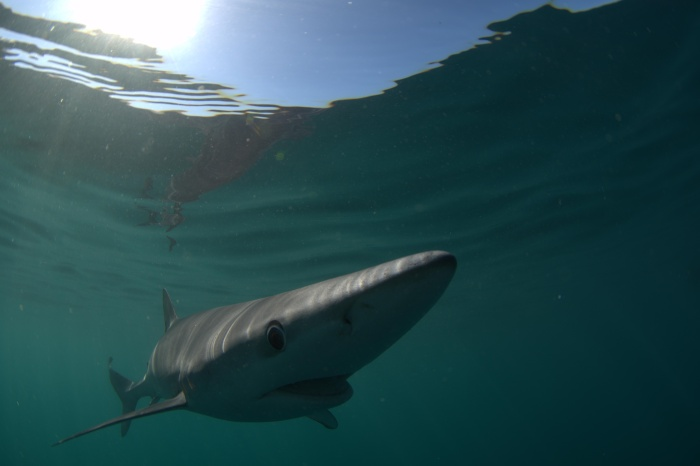Azul: (38, 230, 472, 466)
